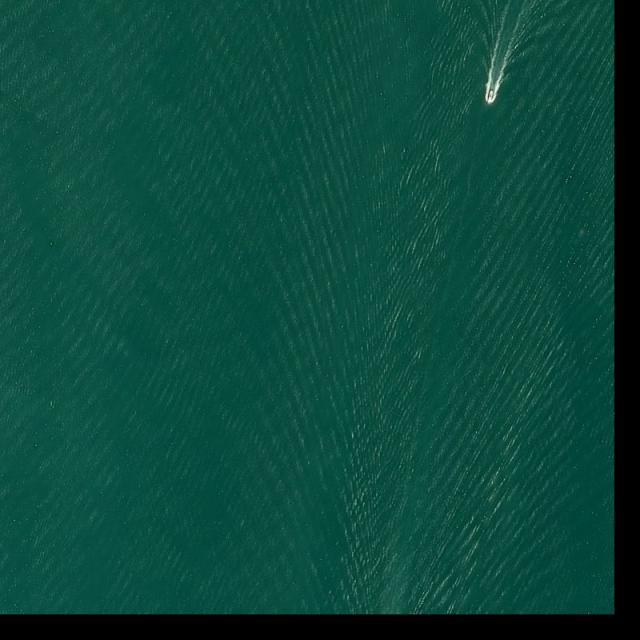ship: (487, 90, 495, 106)
